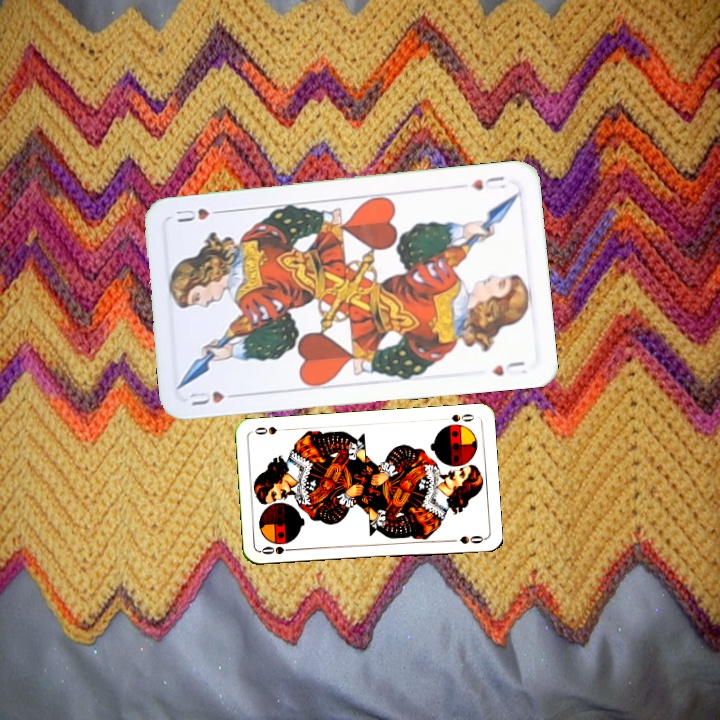HU: (186, 387, 243, 408), (467, 172, 508, 193)
SO: (258, 542, 298, 557), (438, 410, 476, 424)
